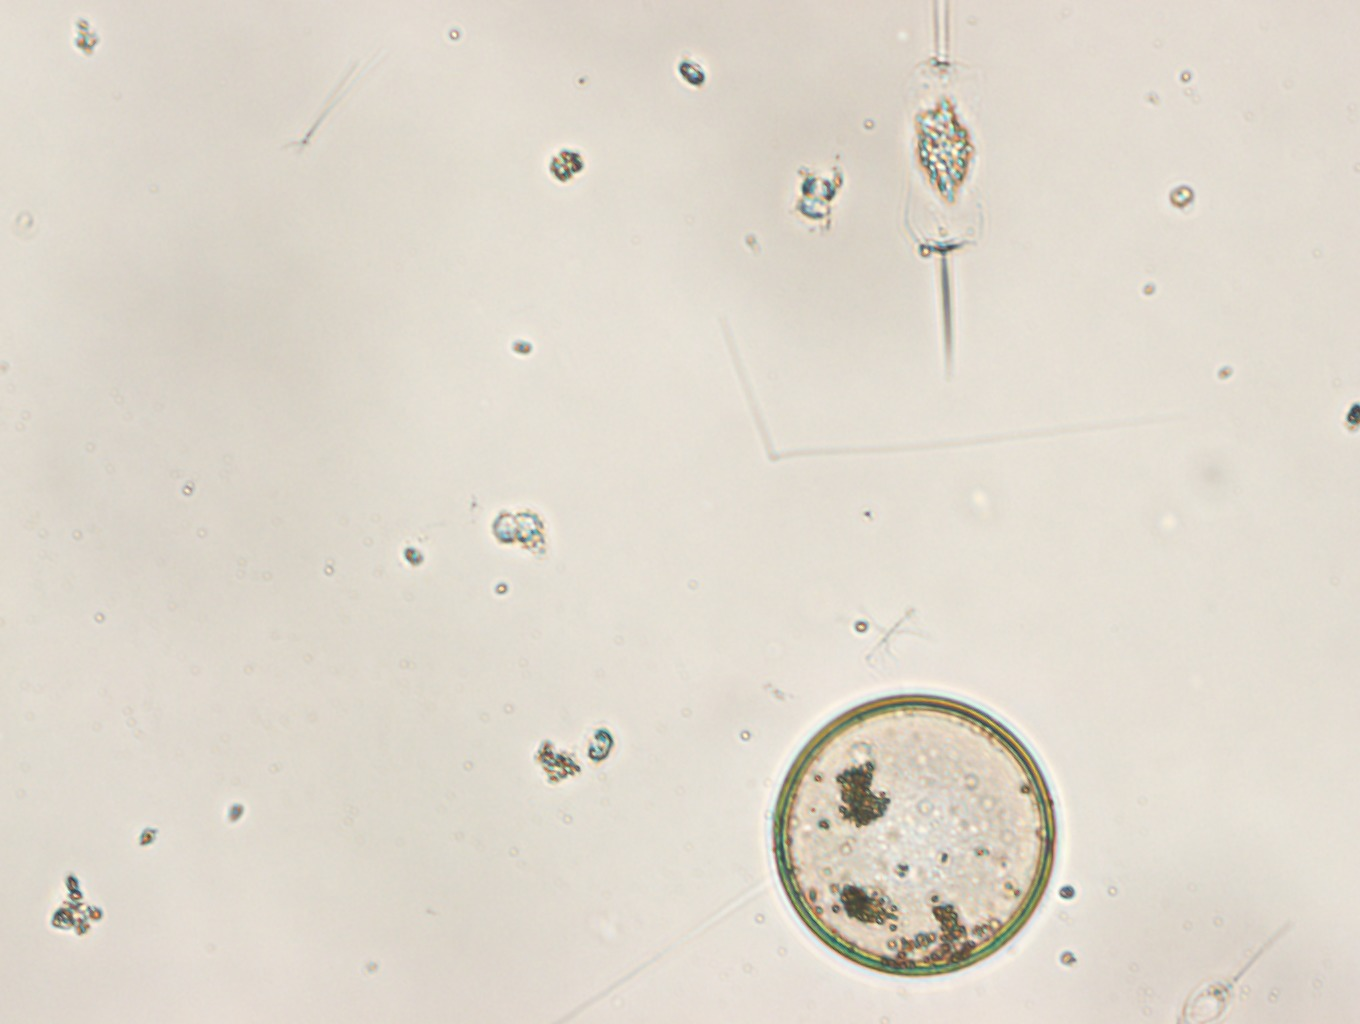coscinodiscus: (775, 692, 1058, 976)
ditylum: (910, 2, 983, 383)
